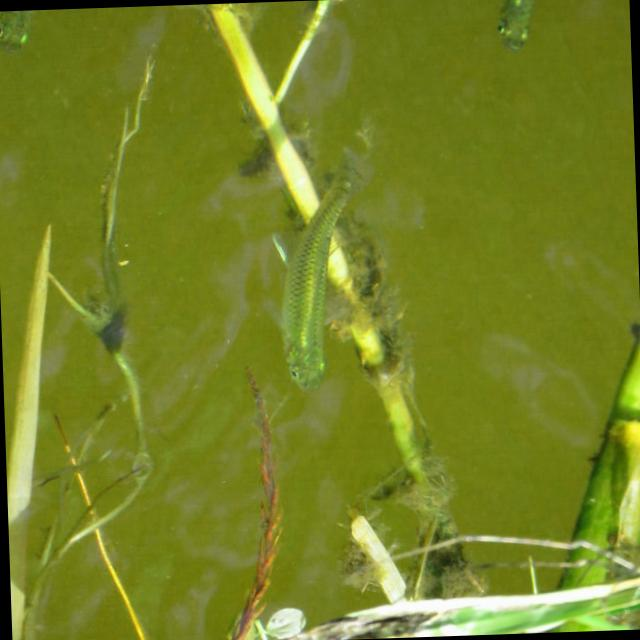Sivrisinek Baligi: (279, 146, 377, 392), (488, 0, 556, 57), (0, 9, 53, 53)
